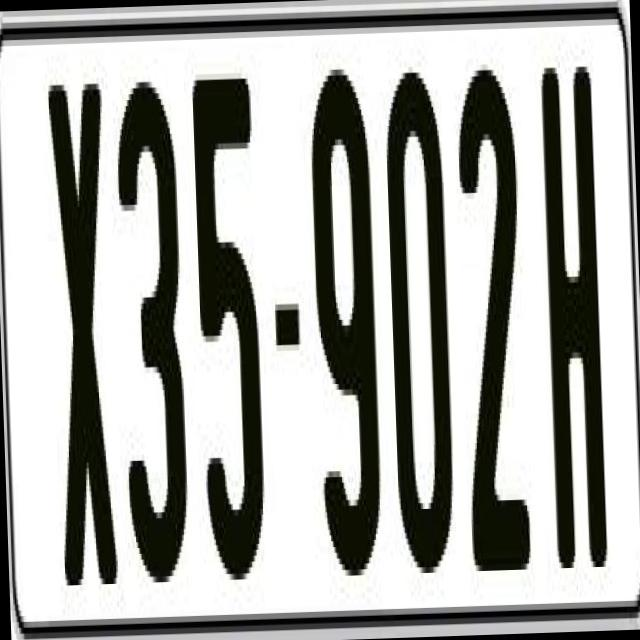0: (378, 54, 460, 568)
2: (453, 57, 537, 571)
3: (111, 69, 196, 577)
5: (188, 60, 272, 586)
9: (306, 56, 384, 599)
H: (536, 53, 612, 586)
X: (48, 77, 120, 615)
